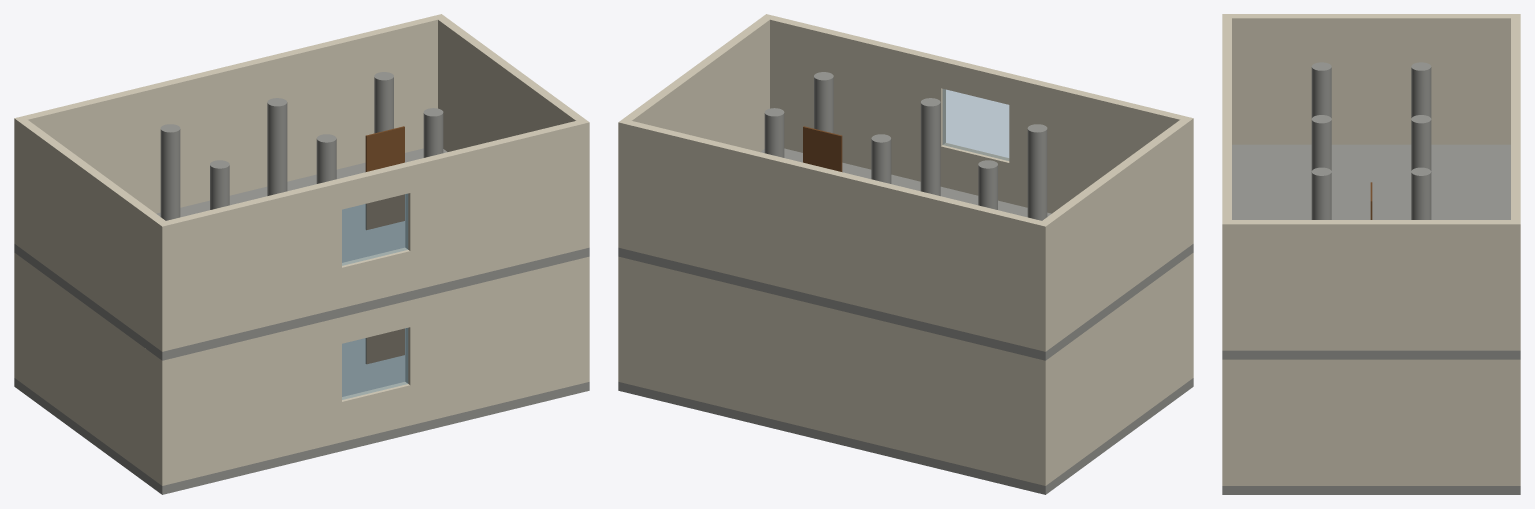
The model's file is ifc-demo.glb.
3 renders of one model, left to right at view 1: azimuth 30°, elevation 25°; view 2: azimuth 150°, elevation 25°; view 3: azimuth 270°, elevation 25°, orthographic.
Parts seen in each view (by area): view 1: Mur sud R+1, Mur sud RDC, Mur nord R+1, Mur ouest R+1, Mur ouest RDC, Mur est R+1, Dalle R+1, Dalle RDC, Fenêtre RDC, Fenêtre R+1, Porte R+1, Poteau R+1-5 (+7 smaller); view 2: Mur nord R+1, Mur nord RDC, Mur sud R+1, Mur ouest R+1, Mur ouest RDC, Mur est R+1, Dalle R+1, Dalle RDC, Fenêtre R+1, Poteau R+1-2, Poteau R+1-1, Porte R+1 (+5 smaller); view 3: Mur est R+1, Mur est RDC, Mur ouest R+1, Dalle R+1, Mur nord R+1, Mur sud R+1, Dalle RDC, Mur sud RDC, Mur nord RDC, Poteau R+1-1, Poteau R+1-4, Poteau R+1-2 (+3 smaller).
Part boxes in pixels (left/top/right/bottom): Mur sud R+1: left=157, top=118, right=589, bottom=351; Mur sud RDC: left=157, top=256, right=589, bottom=485; Mur nord R+1: left=14, top=14, right=445, bottom=246; Mur ouest R+1: left=19, top=120, right=165, bottom=347; Mur ouest RDC: left=19, top=256, right=157, bottom=481; Mur est R+1: left=438, top=17, right=584, bottom=151; Dalle R+1: left=14, top=148, right=589, bottom=360; Dalle RDC: left=14, top=329, right=589, bottom=494; Fenêtre RDC: left=342, top=328, right=407, bottom=399; Fenêtre R+1: left=342, top=194, right=407, bottom=265; Porte R+1: left=365, top=126, right=404, bottom=229; Poteau R+1-5: left=267, top=98, right=287, bottom=195; Mur nord R+1: left=618, top=118, right=1050, bottom=351; Mur nord RDC: left=618, top=256, right=1050, bottom=485; Mur sud R+1: left=762, top=14, right=1193, bottom=246; Mur ouest R+1: left=1042, top=120, right=1188, bottom=347; Mur ouest RDC: left=1050, top=256, right=1188, bottom=481; Mur est R+1: left=623, top=17, right=769, bottom=151; Dalle R+1: left=618, top=148, right=1193, bottom=360; Dalle RDC: left=618, top=378, right=1193, bottom=494; Fenêtre R+1: left=943, top=89, right=1008, bottom=160; Poteau R+1-2: left=920, top=98, right=940, bottom=195; Poteau R+1-1: left=1027, top=124, right=1047, bottom=220; Porte R+1: left=803, top=126, right=842, bottom=171; Mur est R+1: left=1232, top=220, right=1510, bottom=350; Mur est RDC: left=1232, top=359, right=1510, bottom=485; Mur ouest R+1: left=1232, top=14, right=1510, bottom=144; Dalle R+1: left=1222, top=144, right=1520, bottom=359; Mur nord R+1: left=1511, top=14, right=1520, bottom=350; Mur sud R+1: left=1222, top=14, right=1231, bottom=350; Dalle RDC: left=1222, top=486, right=1520, bottom=494; Mur sud RDC: left=1222, top=359, right=1231, bottom=485; Mur nord RDC: left=1511, top=359, right=1520, bottom=485; Poteau R+1-1: left=1311, top=62, right=1331, bottom=118; Poteau R+1-4: left=1411, top=62, right=1431, bottom=118; Poteau R+1-2: left=1311, top=115, right=1331, bottom=170.
Size of the model in its own units: 10 by 6 by 6.
